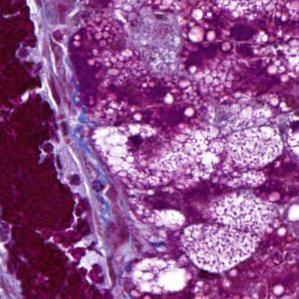ballooning: (89, 121, 161, 176), (130, 255, 192, 296)
